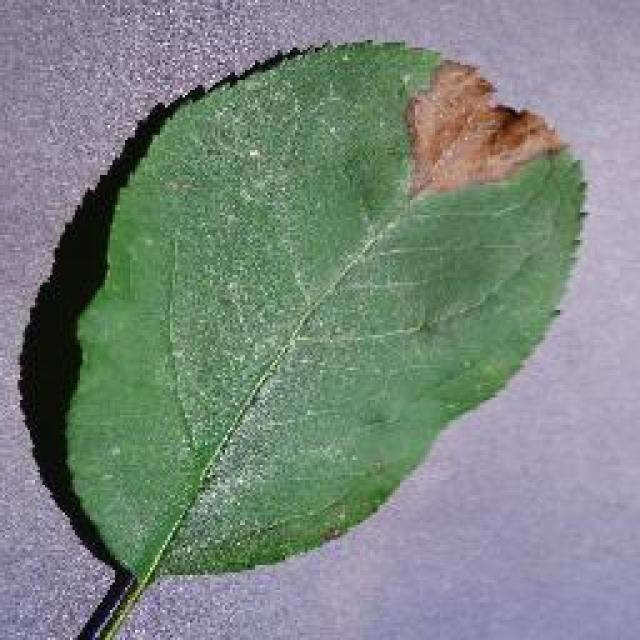Black_rot: (28, 35, 590, 637)
